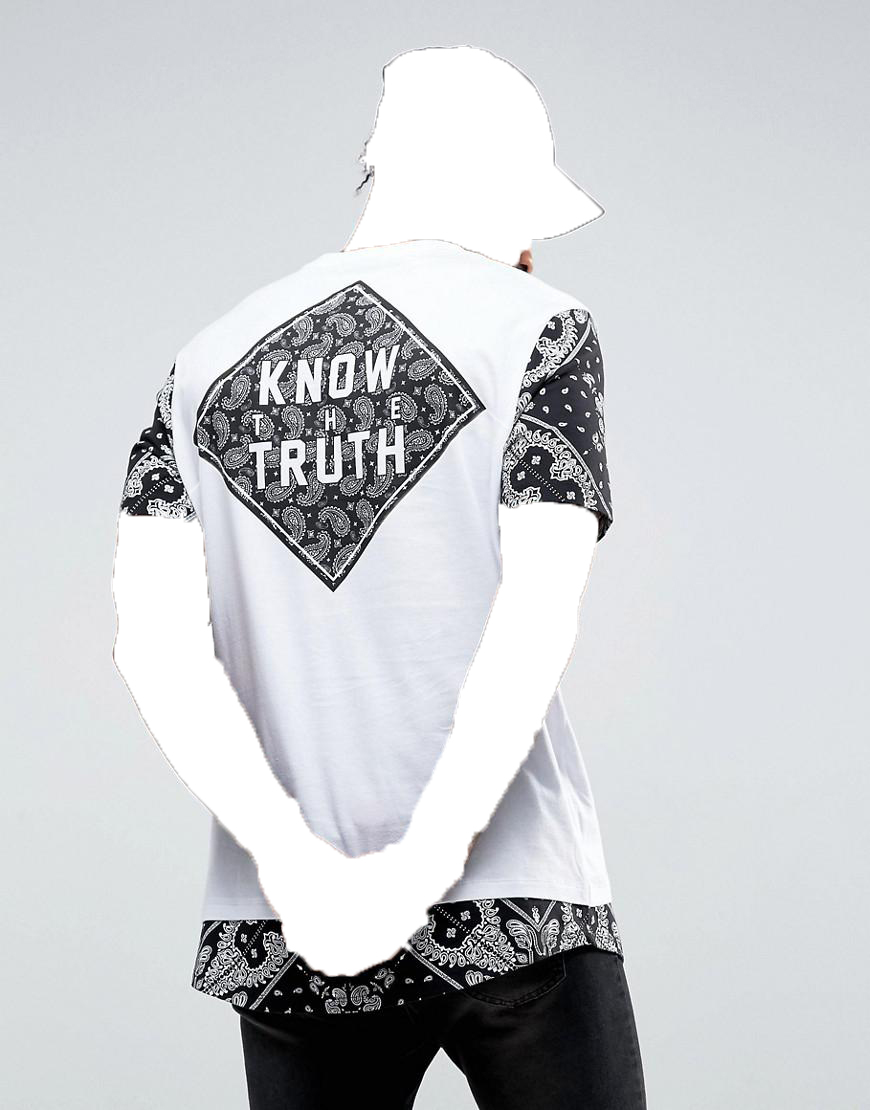teeshirt: (117, 247, 646, 1012)
